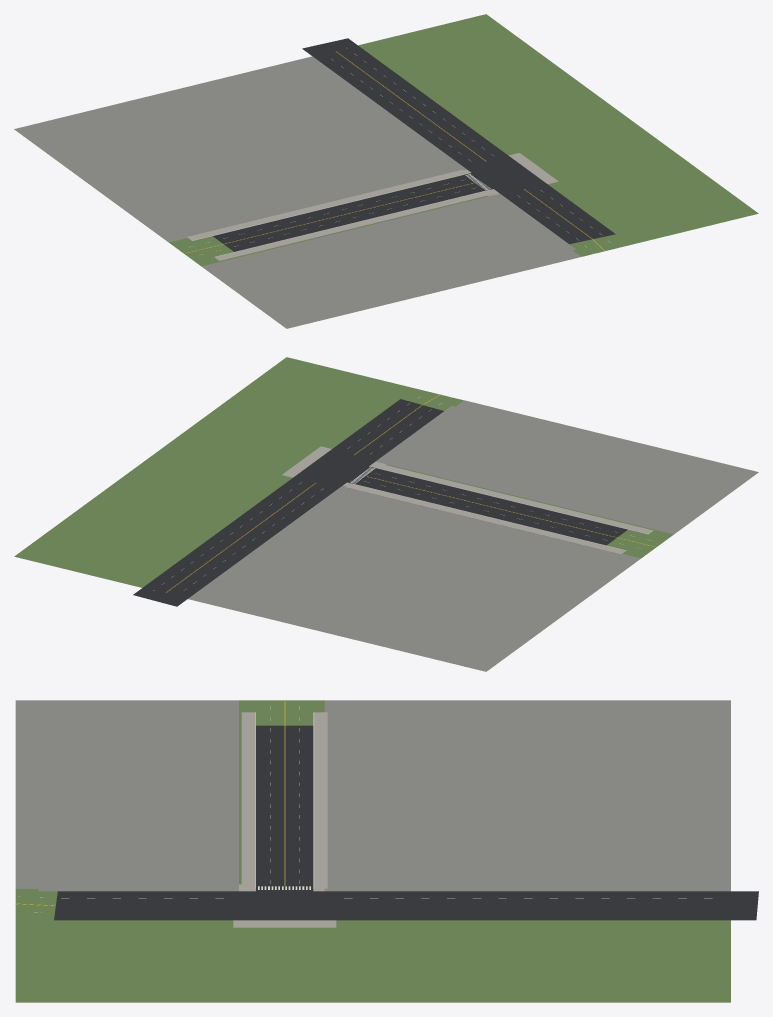
Rendered from Ground_7_1.fbx.
3 views of the same model, one above another, from view 1: azimuth 30°, elevation 25°; view 2: azimuth 150°, elevation 25°; view 3: azimuth 270°, elevation 25° (orthographic). The views are drawn at different scales.
Parts seen in each view (by area): view 1: Ground_7_1; view 2: Ground_7_1; view 3: Ground_7_1.
Part boxes in pixels (<box>): Ground_7_1: <box>14,14,758,328</box>; Ground_7_1: <box>14,357,758,671</box>; Ground_7_1: <box>15,700,758,1002</box>.
Bounding box in the file's own units: 250 × 0.14 × 260.
